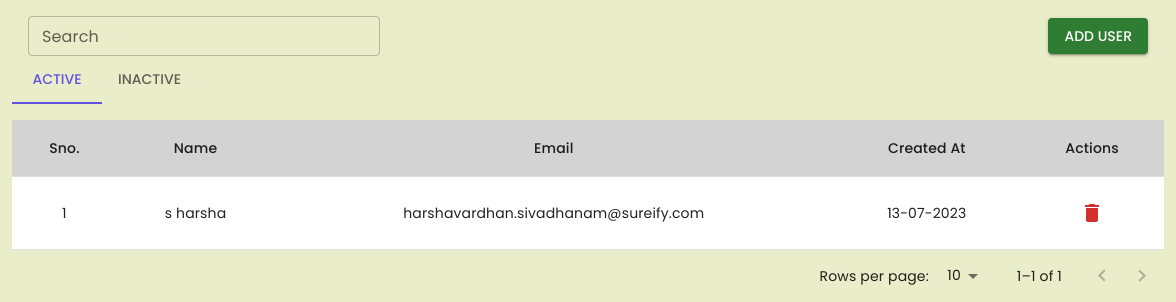
Scenario: All users component › should render inactive users
Click the tab "Inactive" at (150, 80), box [102,56,197,104]
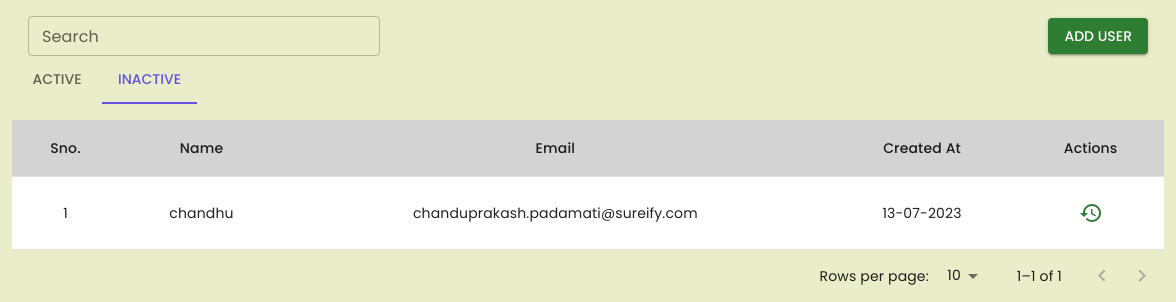
Now the text "chandhu" is shown, box [119,177,284,250]
